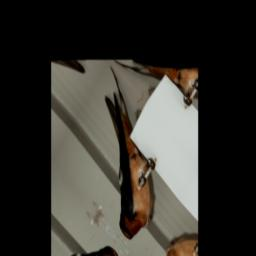Swallow: (57, 67, 184, 247)
